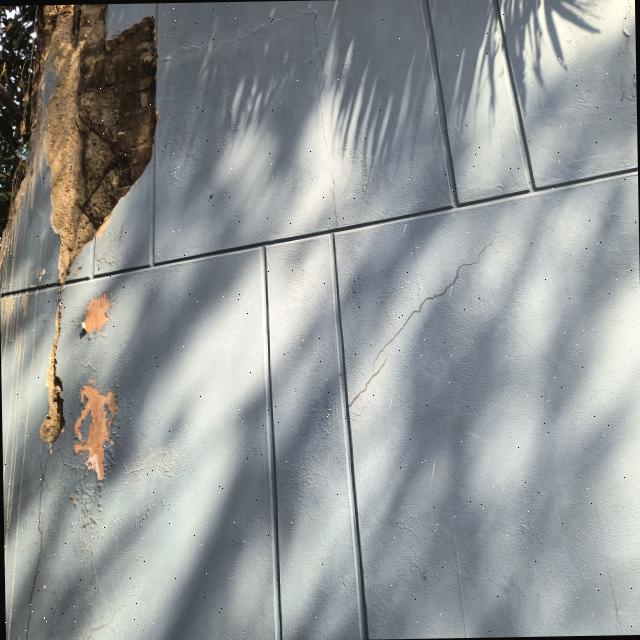Crack: (372, 238, 495, 372), (301, 5, 340, 230), (24, 440, 48, 640), (348, 350, 392, 411), (84, 602, 127, 640)
Paint Peeling: (69, 385, 118, 550), (85, 292, 109, 332)
Scaling: (39, 290, 64, 452)
Spalling: (28, 4, 156, 282)
